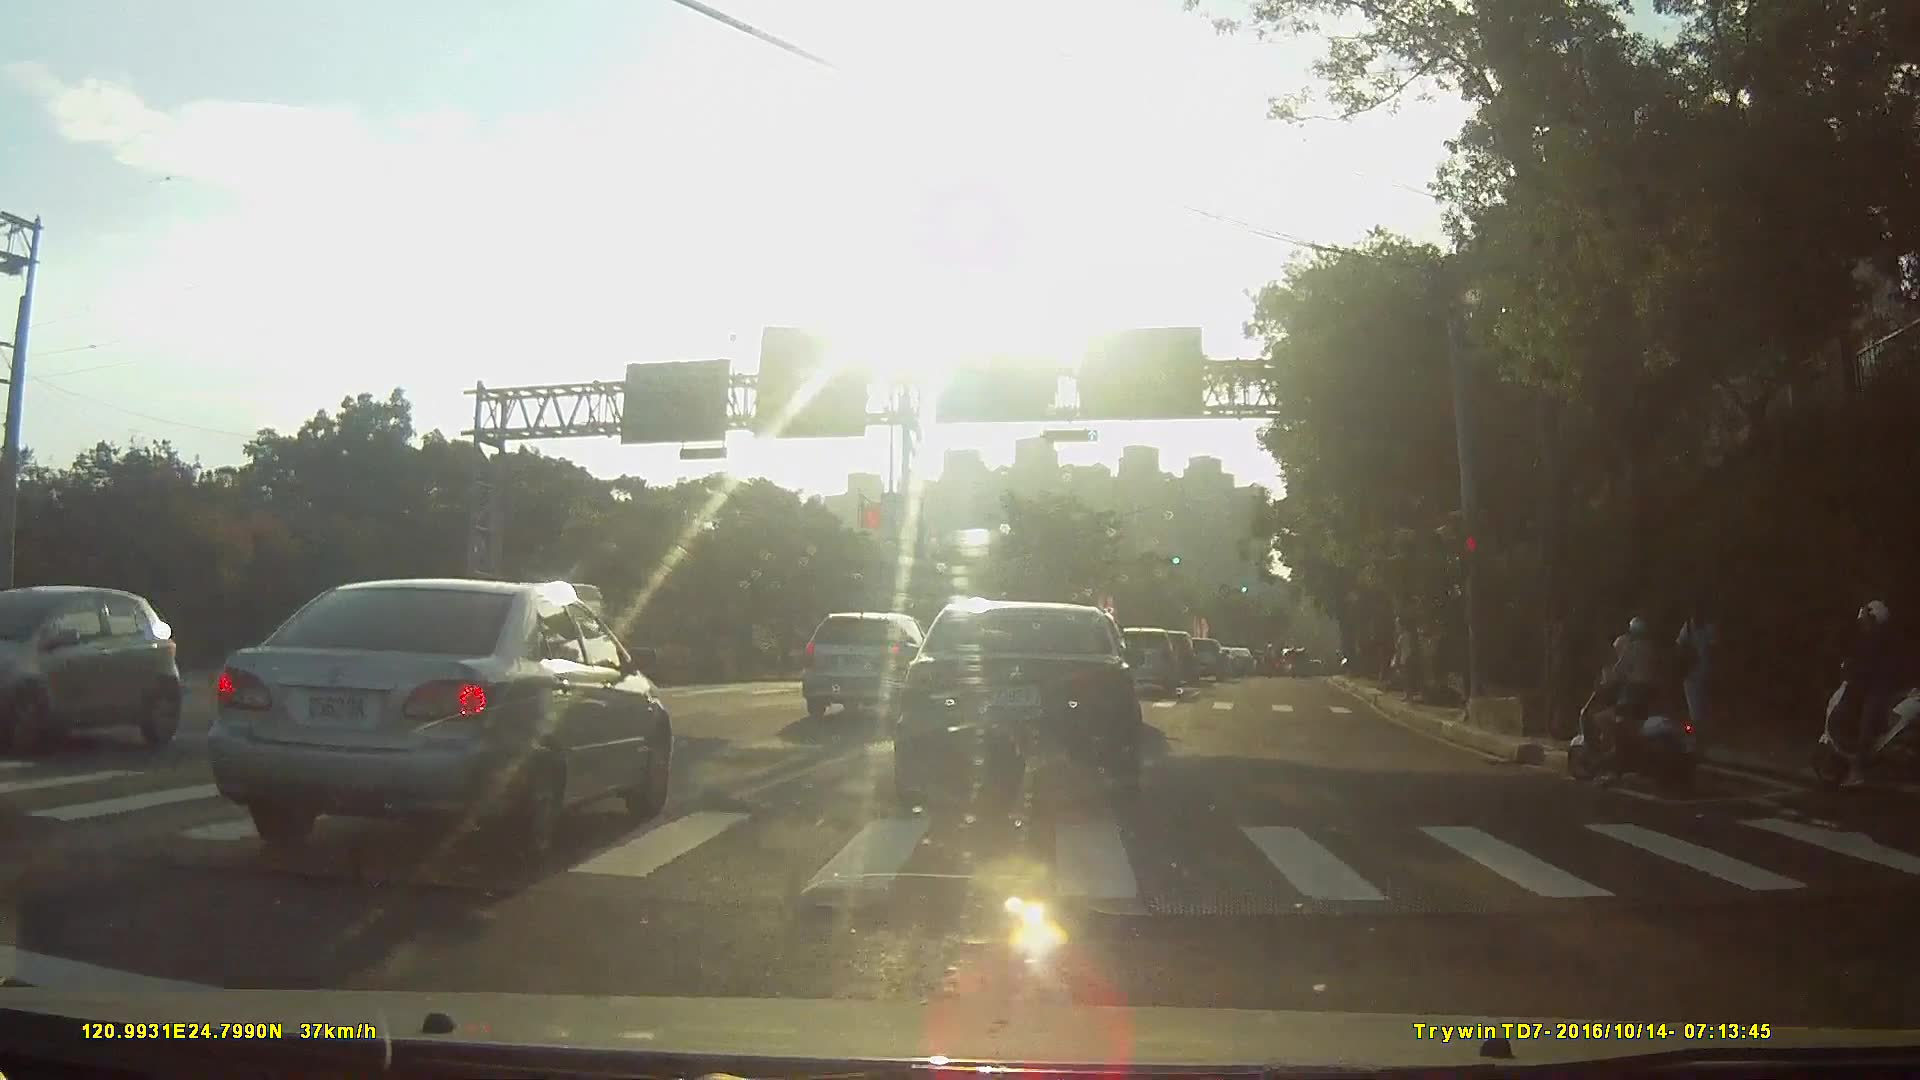pedestrian: (1669, 589, 1726, 740)
rider: (1571, 611, 1715, 791), (1807, 597, 1920, 792)
vehicle: (191, 574, 672, 863), (891, 595, 1142, 807), (1, 583, 202, 766), (798, 607, 944, 718), (1105, 622, 1179, 692), (1175, 633, 1225, 677), (1219, 644, 1256, 672)
